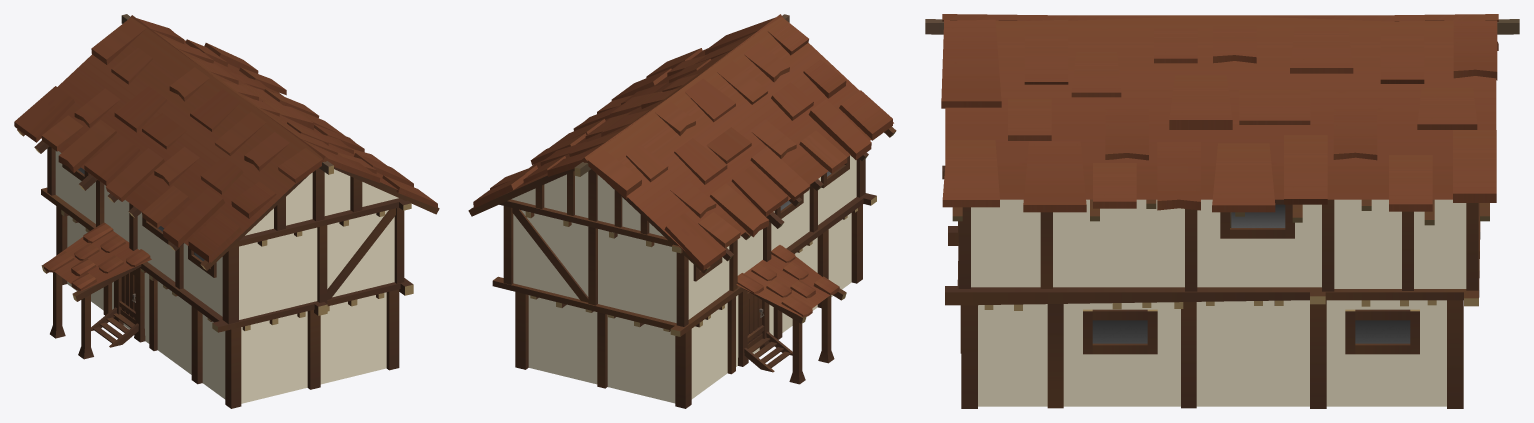
File: House_8.fbx
The picture shows the model from 3 angles, left to right: view 1: azimuth 30°, elevation 25°; view 2: azimuth 150°, elevation 25°; view 3: azimuth 270°, elevation 25°; orthographic projection. The views are drawn at different scales.
Visible parts, largest first — view 1: polySurface9617; view 2: polySurface9617; view 3: polySurface9617.
Part boxes in pixels (x1=…): polySurface9617: x1=14, y1=14, x2=439, y2=408; polySurface9617: x1=468, y1=14, x2=896, y2=408; polySurface9617: x1=925, y1=14, x2=1519, y2=408.
Bounding box in the file's own units: 1053 × 855 × 1361.
